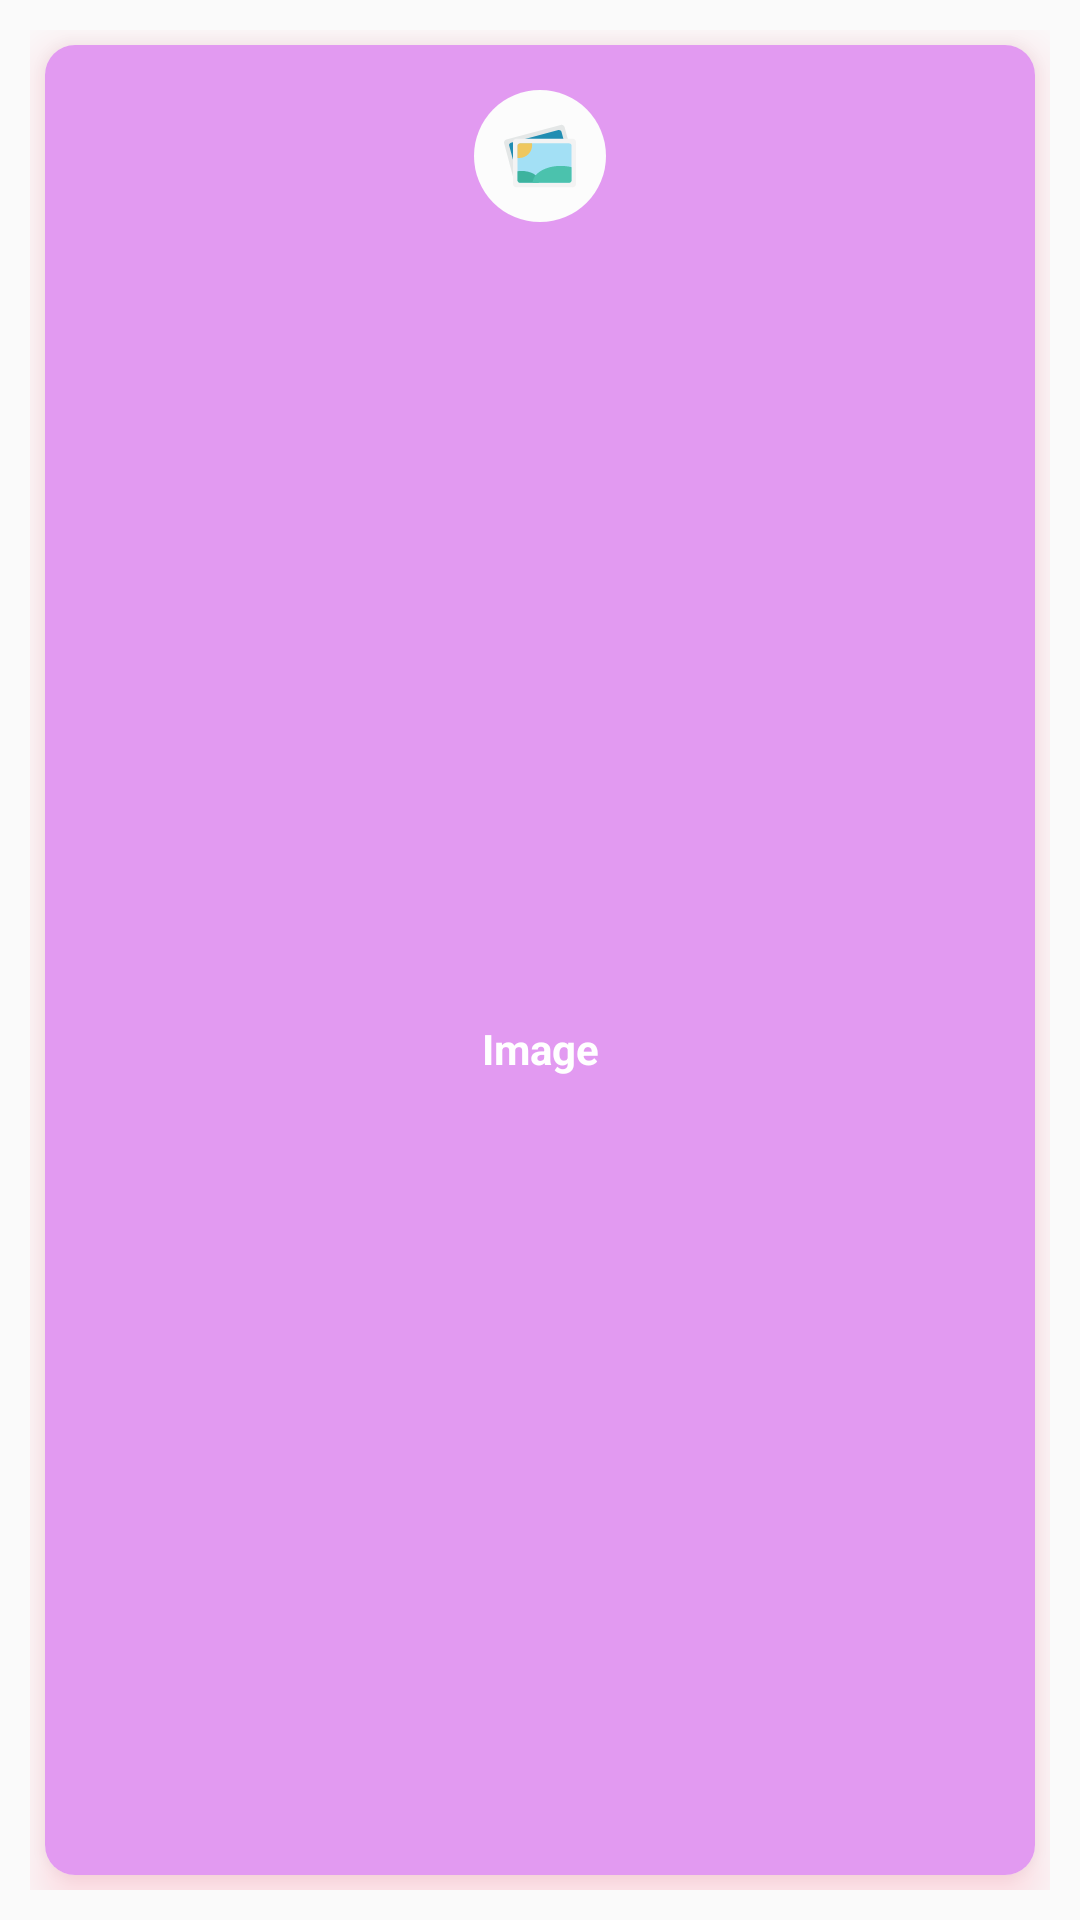

Screen size 1080 x 1920. Icon name, then its center in pixels as [x,y]:
galary: [540,156]
